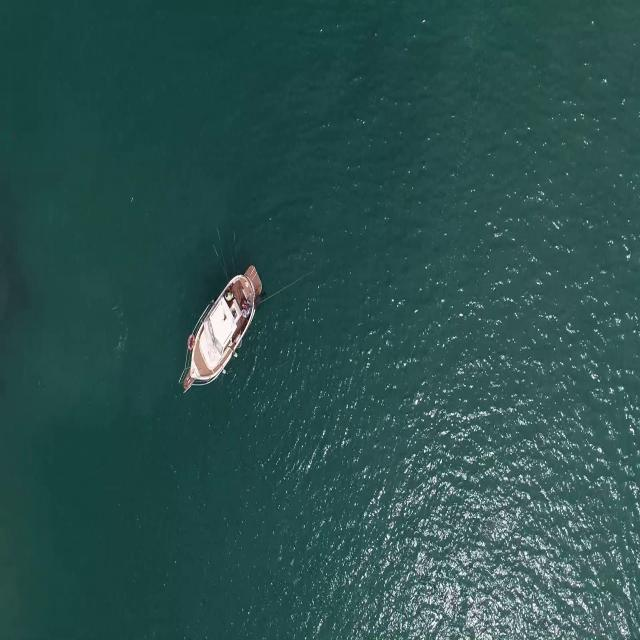boat: (176, 263, 262, 388)
life_buoy: (186, 328, 196, 352)
person: (222, 289, 236, 302), (239, 305, 251, 320)
